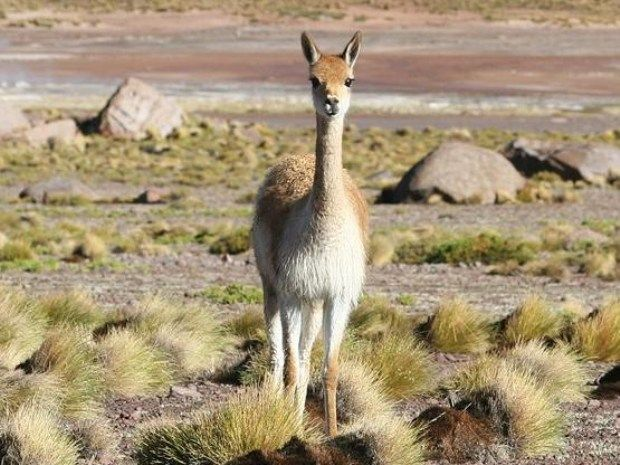eye: (311, 75, 324, 96), (343, 74, 360, 90)
mouth: (319, 101, 345, 119)
